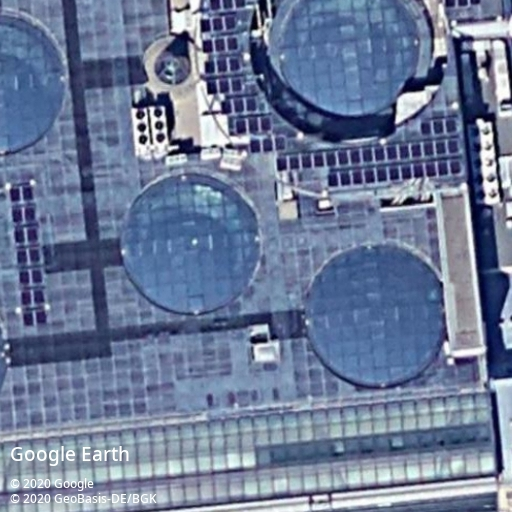Chiller: (466, 118, 501, 205), (131, 107, 152, 148), (149, 105, 169, 146)
